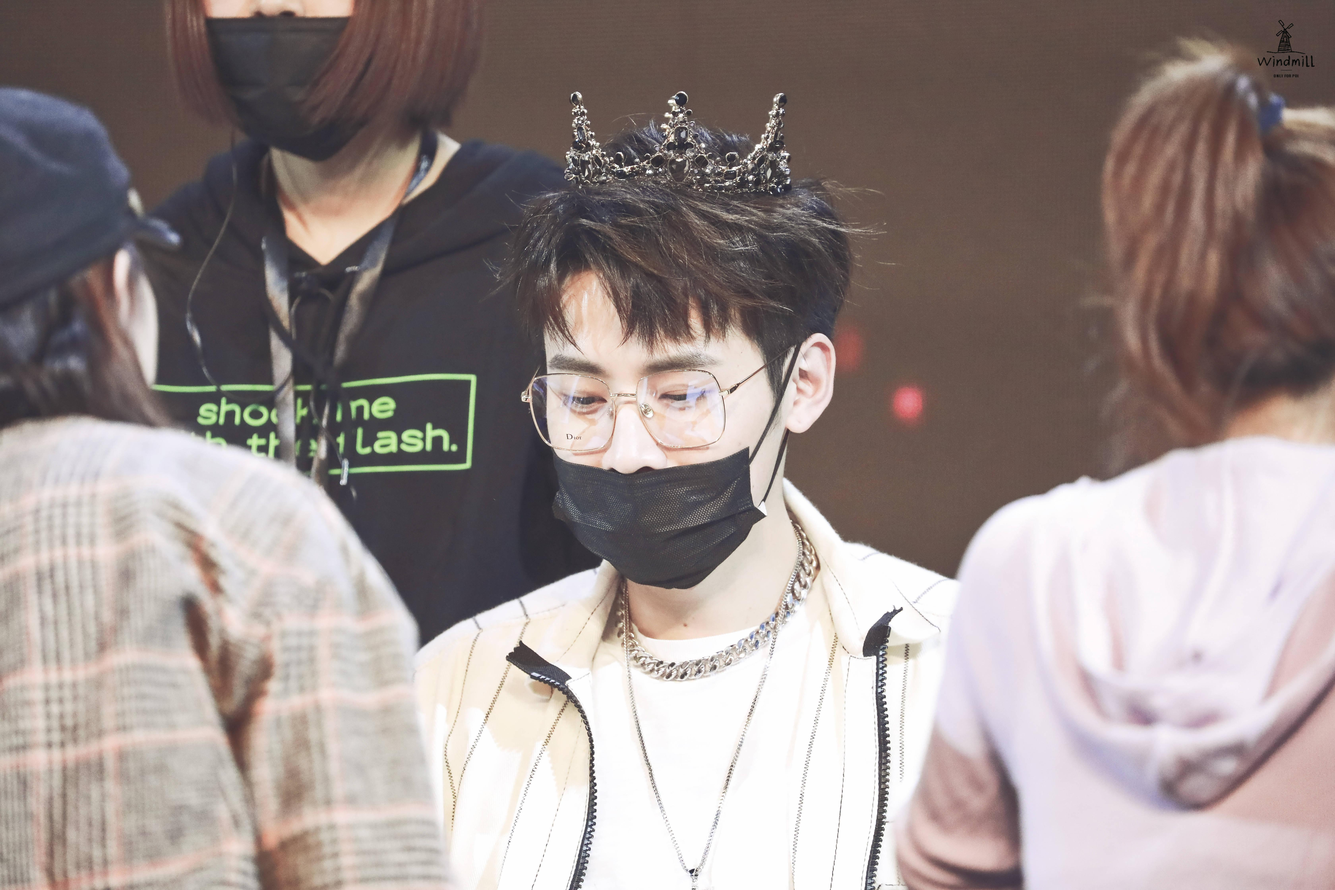WRONG: (543, 333, 761, 588)
